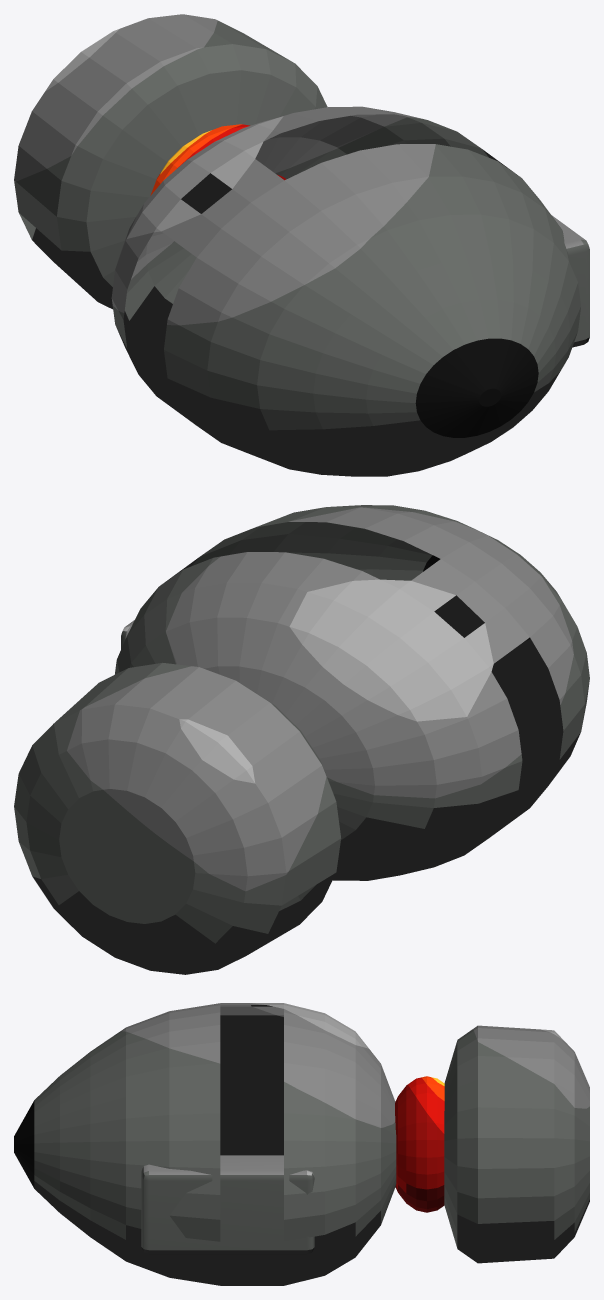
The model's file is ice_drill_arm_205.glb.
The picture shows the model from 3 angles, top to bottom: view 1: azimuth 30°, elevation 25°; view 2: azimuth 150°, elevation 25°; view 3: azimuth 270°, elevation 25°; orthographic projection. The views are drawn at different scales.
Visible parts, largest first — view 1: ice_drill_arm_205; view 2: ice_drill_arm_205; view 3: ice_drill_arm_205.
Boxes of the visible parts, x1,y1,x2,y2 form: ice_drill_arm_205: (14, 14, 589, 476); ice_drill_arm_205: (14, 505, 589, 974); ice_drill_arm_205: (14, 1003, 589, 1285).
Bounding box in the file's own units: 14 × 10.36 × 22.6.
